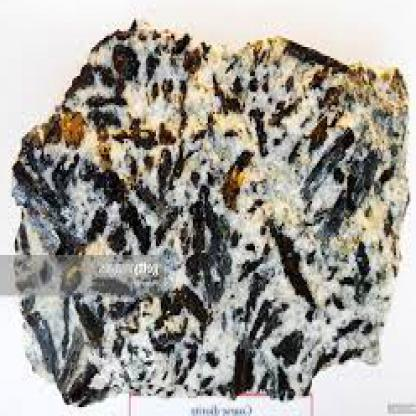Igneous_Diorite: (13, 13, 414, 400)
